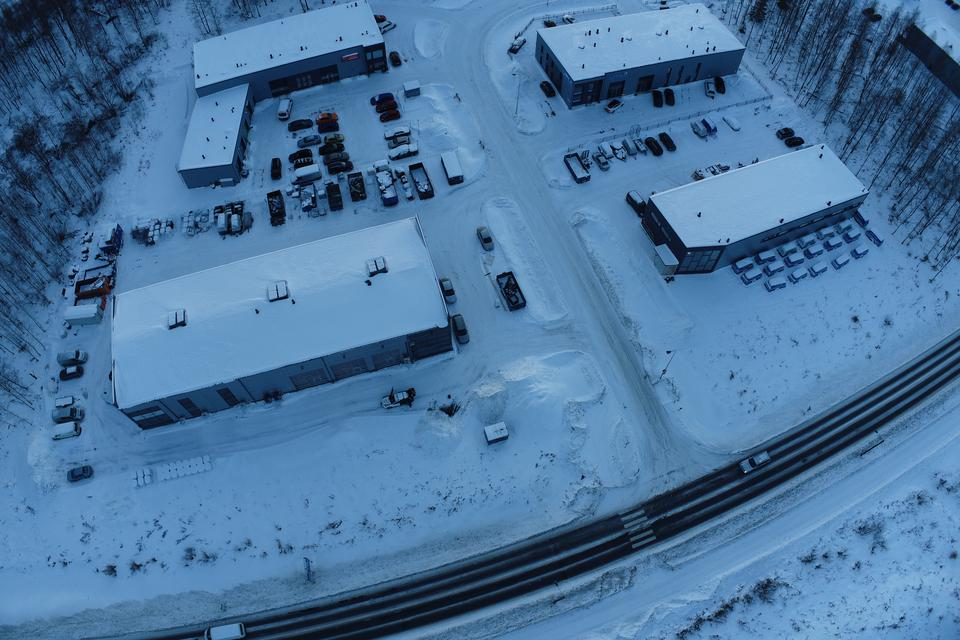intersection: (599, 419, 739, 564)
